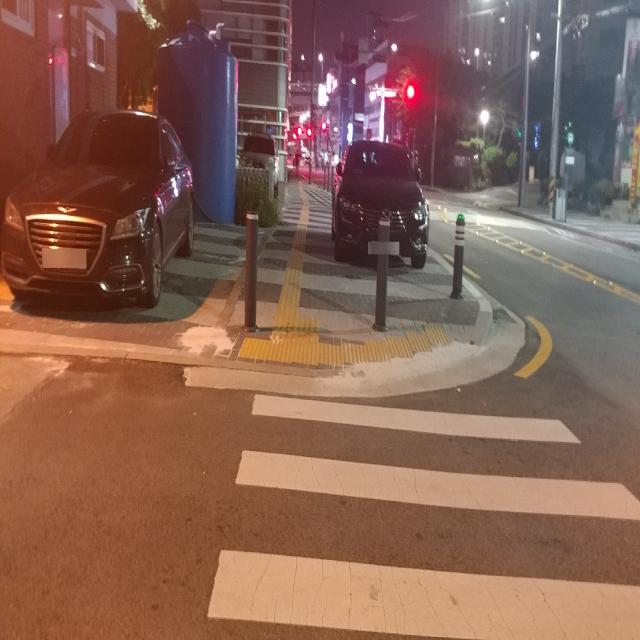횡단보도: (207, 393, 640, 640)
